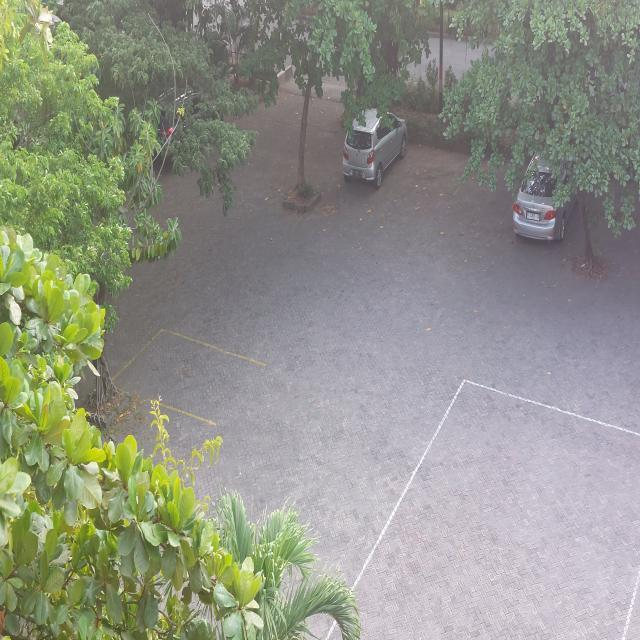Vacant: (107, 329, 265, 425)
